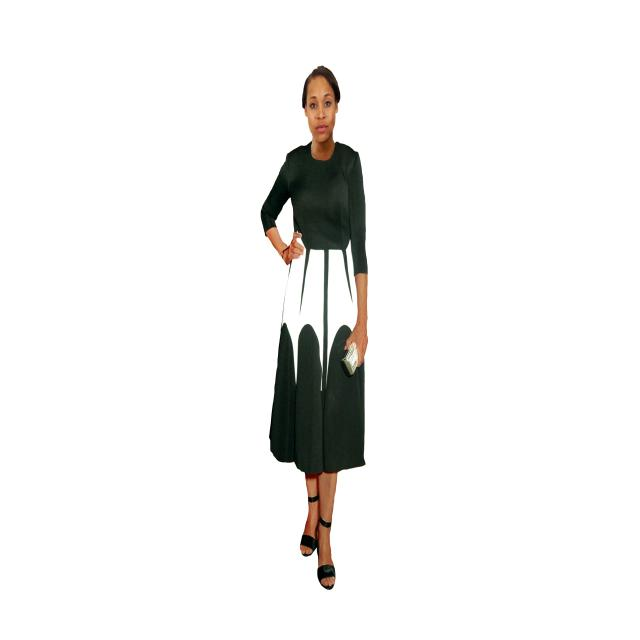jovem: (262, 54, 388, 606)
